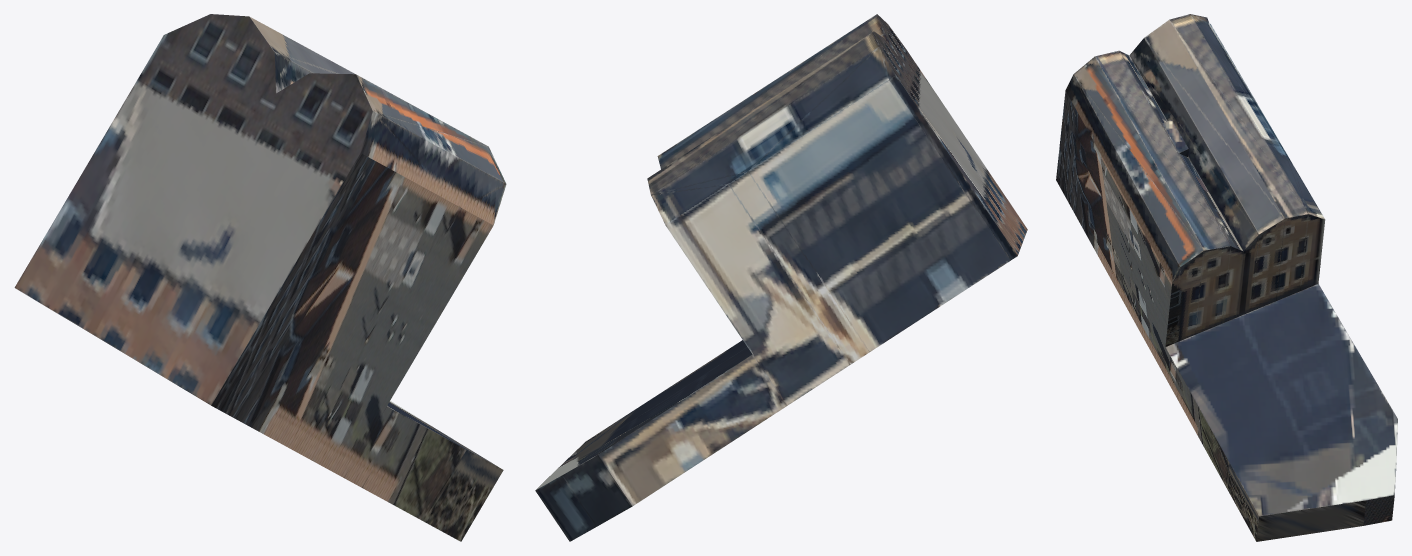
The picture shows the model from 3 angles, left to right: view 1: azimuth 30°, elevation 25°; view 2: azimuth 150°, elevation 25°; view 3: azimuth 270°, elevation 25°; orthographic projection. The views are drawn at different scales.
Visible parts, largest first — view 1: BAG_0599100000656917 (×7); view 2: BAG_0599100000656917 (×6); view 3: BAG_0599100000656917 (×9).
Part boxes in pixels (x1,y1,x2,y2): BAG_0599100000656917 (×7): (14, 14, 506, 541); BAG_0599100000656917 (×6): (535, 14, 1027, 541); BAG_0599100000656917 (×9): (1056, 14, 1397, 541).
Bounding box in the file's own units: 23.74 × 27.16 × 19.5.
Materials: 10 (9 with a texture image).
